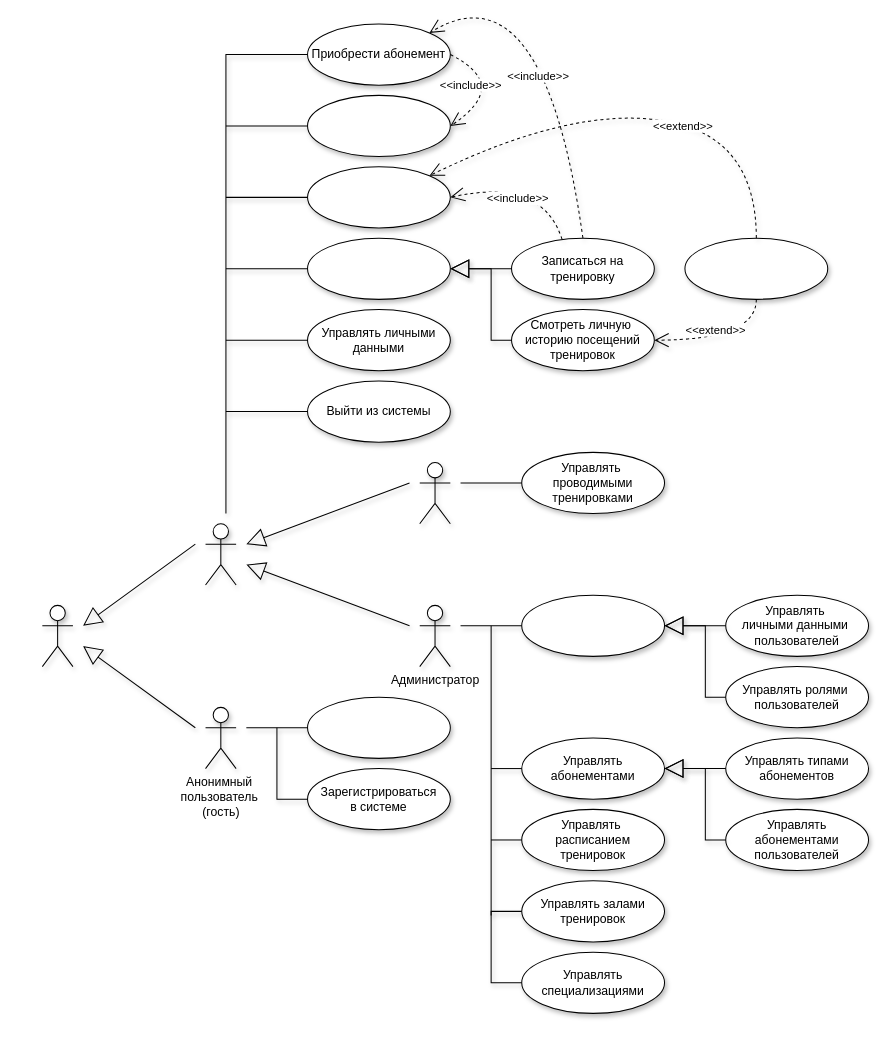
The diagram is 893 pixels wide and 1038 high, and some of its shapes have lost their labels. The shapes that lost their labels are listed below. From the top down, each one's centre as x and y in pixels, then its label:
At (x=379, y=127): "Смотреть доступные типы абонементов".
At (x=379, y=198): "Смотреть общее расписание тренировок".
At (x=379, y=270): "Управлять личными записями на тренировки".
At (x=757, y=270): "Отменить запись на тренировку".
At (x=435, y=494): "Тренер".
At (x=221, y=555): "Авторизованный пользователь (клиент)".
At (x=58, y=637): "Пользователь".
At (x=594, y=627): "Управлять пользователями".
At (x=379, y=729): "Войти в систему".
